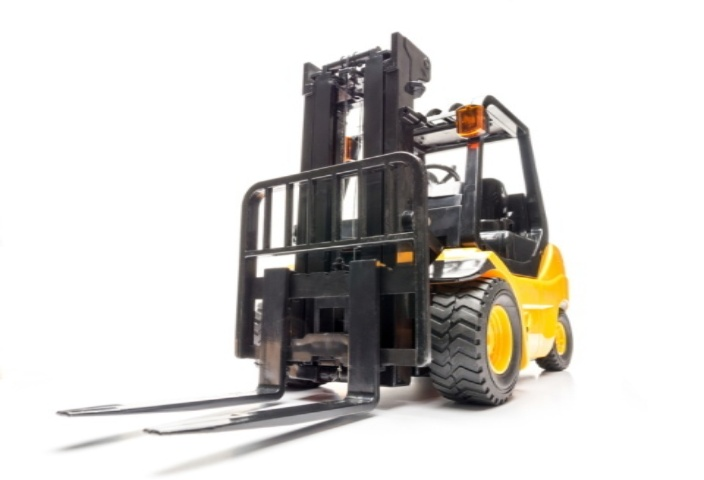industrial: (25, 35, 608, 448)
